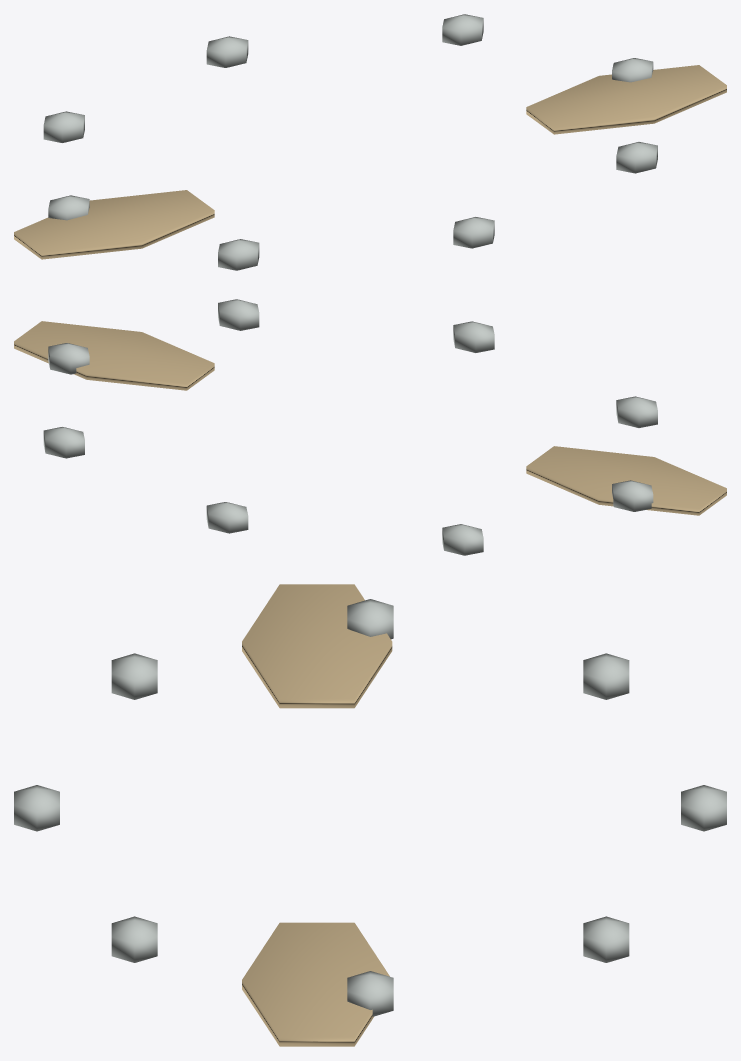
Rendered from foundation_autumn_low.glb.
3 views of the same model, one above another, from view 1: azimuth 30°, elevation 25°; view 2: azimuth 150°, elevation 25°; view 3: azimuth 270°, elevation 25° (orthographic). The views are drawn at different scales.
Bounding box in the file's own units: 4.01 × 0.1599 × 2.67.
